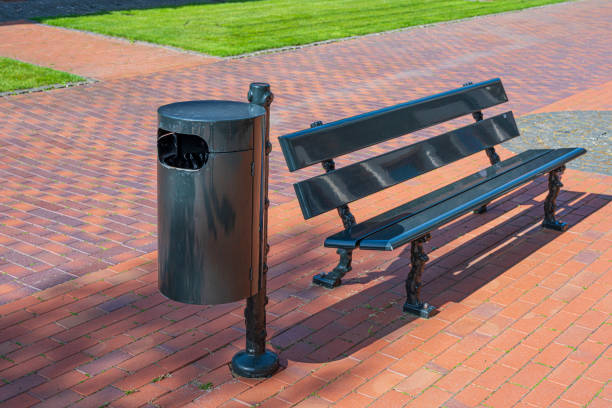bench: (276, 75, 596, 323)
